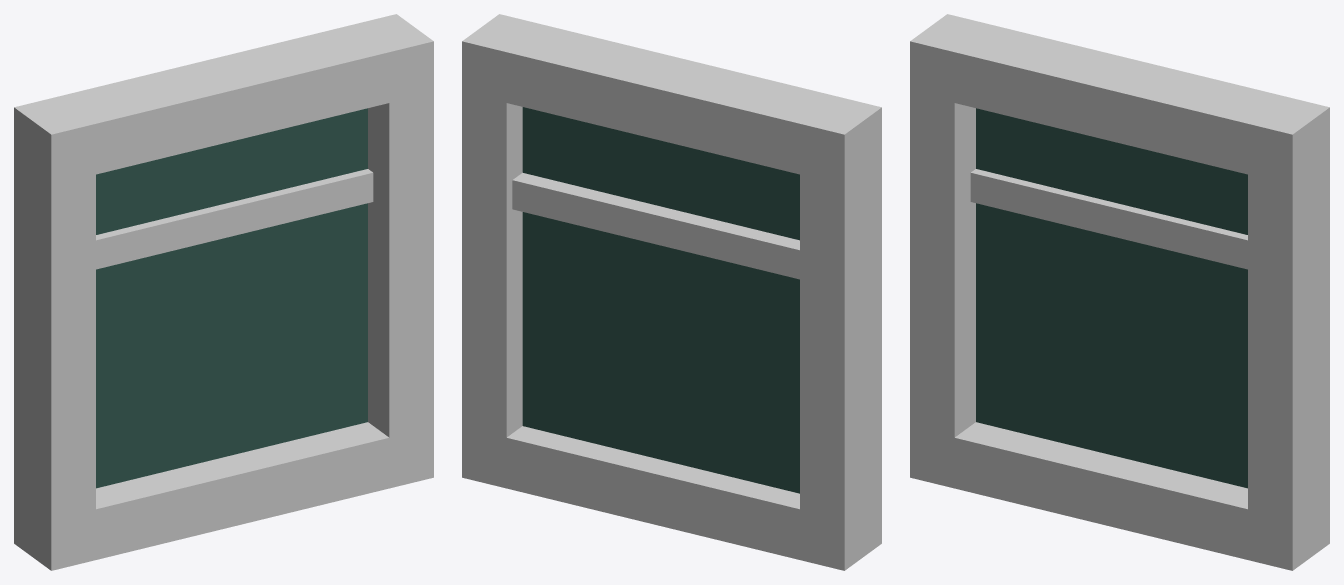
File: window.fbx
3 renders of one model, left to right at view 1: azimuth 30°, elevation 25°; view 2: azimuth 150°, elevation 25°; view 3: azimuth 330°, elevation 25°, orthographic.
Visible parts, largest first — view 1: window_plane; view 2: window_plane; view 3: window_plane.
Part boxes in pixels (<box>): window_plane: <box>14,14,433,570</box>; window_plane: <box>462,14,881,570</box>; window_plane: <box>910,14,1329,570</box>.
Size of the model in its own units: 70.58 by 76.93 by 11.94.
